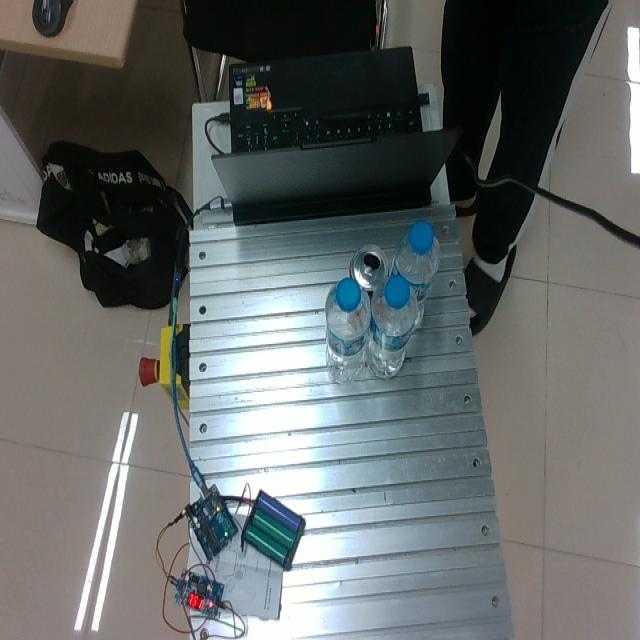coca: (348, 242, 389, 302)
lavie: (366, 273, 419, 379), (390, 222, 441, 330), (323, 277, 371, 380)
